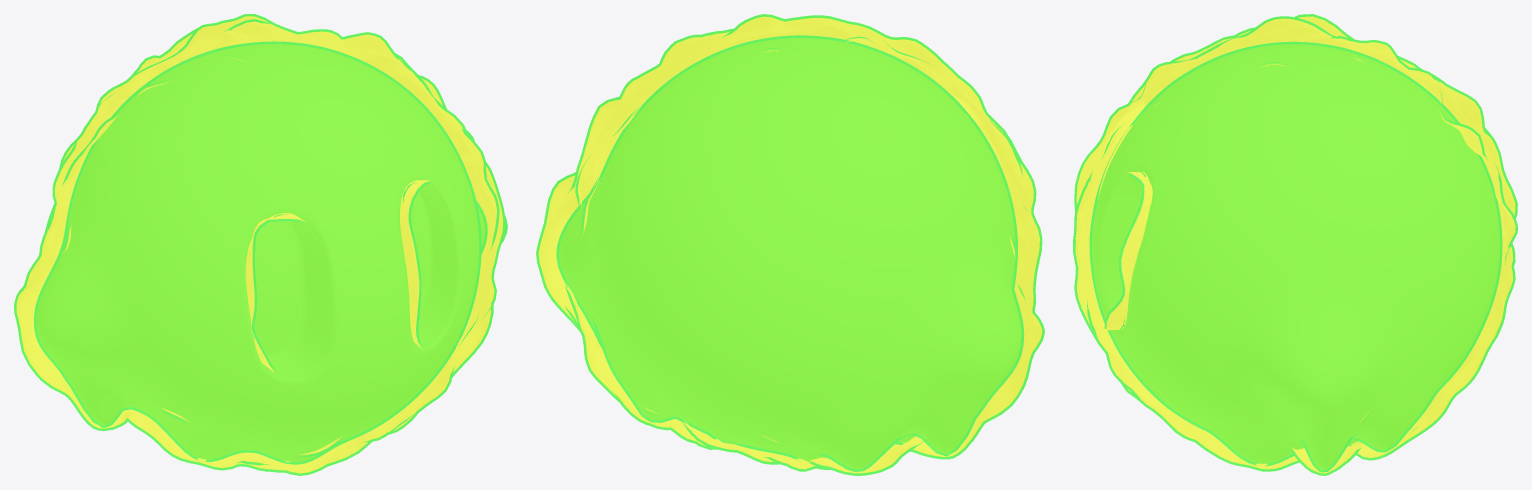
Rendered from HEAD.CHEMISTRY.RADIOACTIVE.glb.
3 renders of one model, left to right at view 1: azimuth 30°, elevation 25°; view 2: azimuth 150°, elevation 25°; view 3: azimuth 270°, elevation 25°, orthographic. The views are drawn at different scales.
Parts seen in each view (by area): view 1: HEAD.CHEMISTRY.RADIOACTIVE; view 2: HEAD.CHEMISTRY.RADIOACTIVE; view 3: HEAD.CHEMISTRY.RADIOACTIVE.
Boxes of the visible parts, x1,y1,x2,y2 form: HEAD.CHEMISTRY.RADIOACTIVE: (14, 14, 507, 475); HEAD.CHEMISTRY.RADIOACTIVE: (536, 14, 1044, 475); HEAD.CHEMISTRY.RADIOACTIVE: (1073, 14, 1517, 475).
Size of the model in its own units: 1.63 by 1.37 by 1.36.
